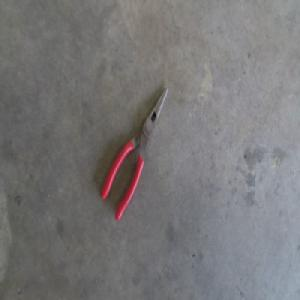Pliers: (101, 83, 170, 221)
